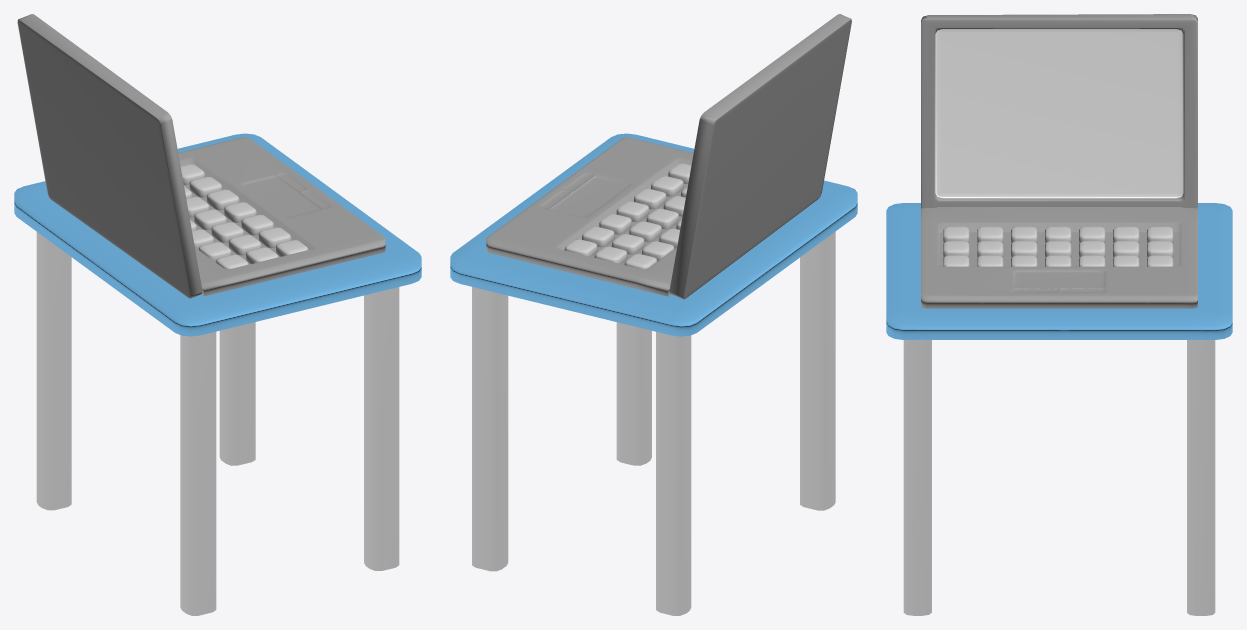
The model's file is lobbylaptop.fbx.
The picture shows the model from 3 angles, left to right: view 1: azimuth 30°, elevation 25°; view 2: azimuth 150°, elevation 25°; view 3: azimuth 270°, elevation 25°; orthographic projection.
Parts seen in each view (by area): view 1: Cube; view 2: Cube; view 3: Cube.
Part boxes in pixels (box(x1,y1,x2,y2)): Cube: box(14, 14, 421, 615); Cube: box(450, 14, 857, 615); Cube: box(886, 14, 1232, 615).
Bounding box in the file's own units: 41.42 × 78.06 × 50.
